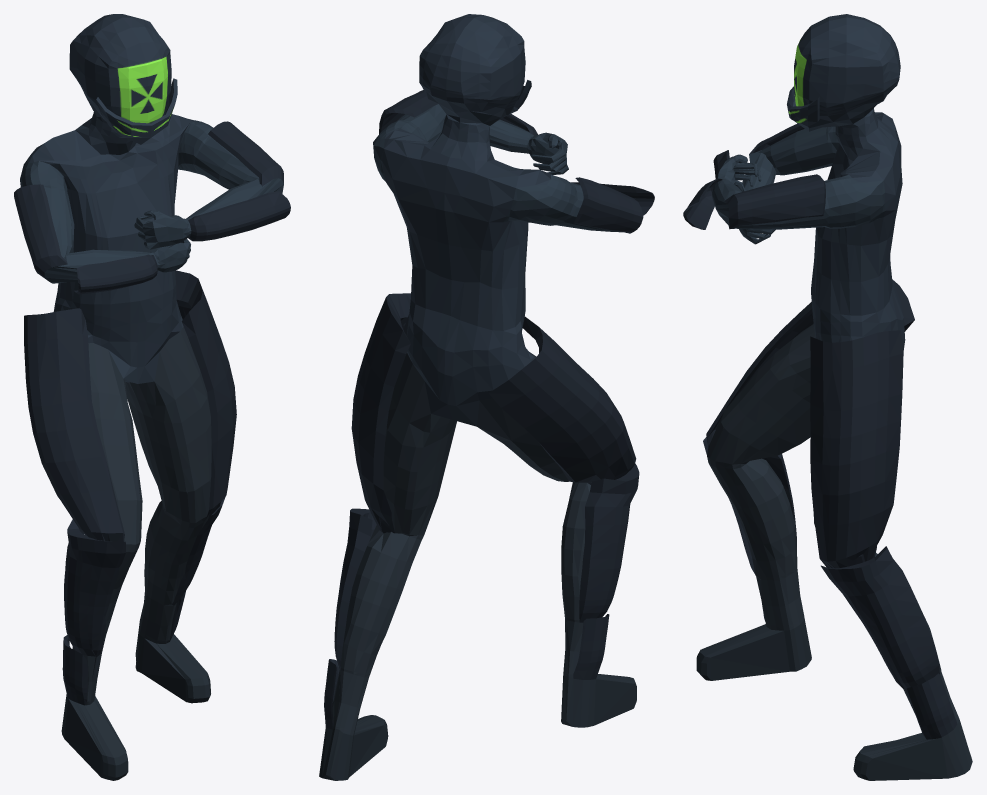
Rendered from Bastion_WB_000010.obj.
3 views of the same model, side by side, from view 1: azimuth 30°, elevation 25°; view 2: azimuth 150°, elevation 25°; view 3: azimuth 270°, elevation 25° (orthographic). The views are drawn at different scales.
Visible parts, largest first — view 1: Cube.002; view 2: Cube.002; view 3: Cube.002.
Part boxes in pixels (box(x1,y1,x2,y2)): Cube.002: box(14, 14, 290, 780); Cube.002: box(319, 14, 654, 780); Cube.002: box(683, 14, 972, 780).
Size of the model in its own units: 1.32 by 3.75 by 1.37.
